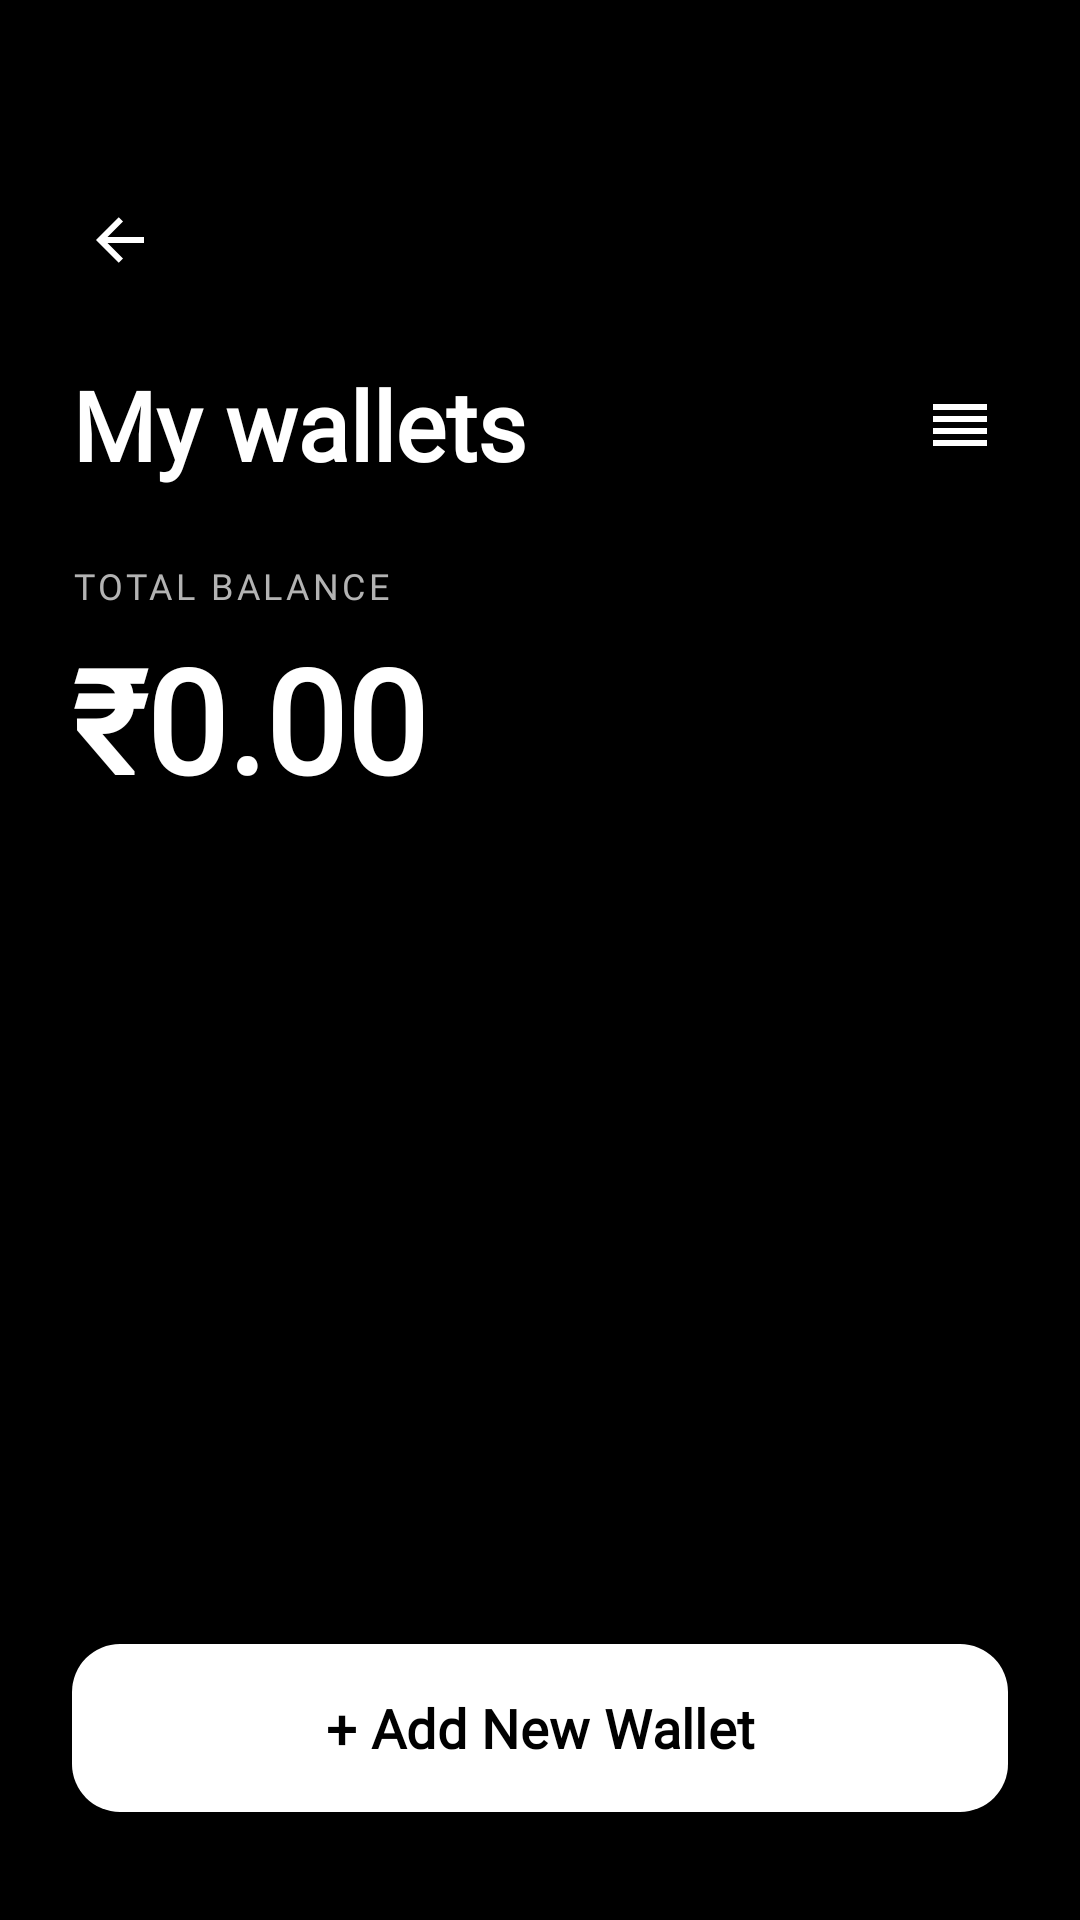

Screen size 1080×1920. Icon name, then its center in pixels as (x=x, y=y):
reorder modern: (x=960, y=425)
